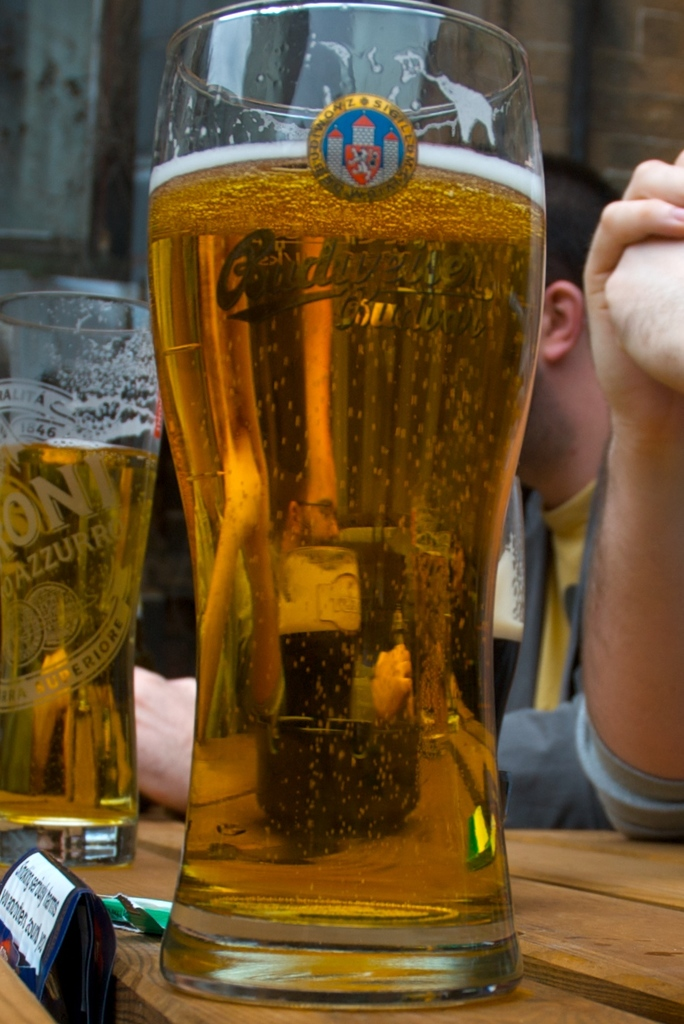Beer: (151, 136, 542, 934), (0, 436, 151, 832)
